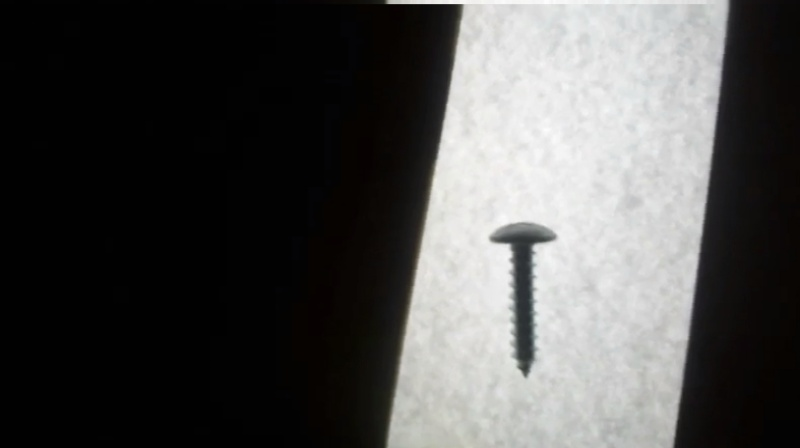S003: (482, 217, 560, 379)
